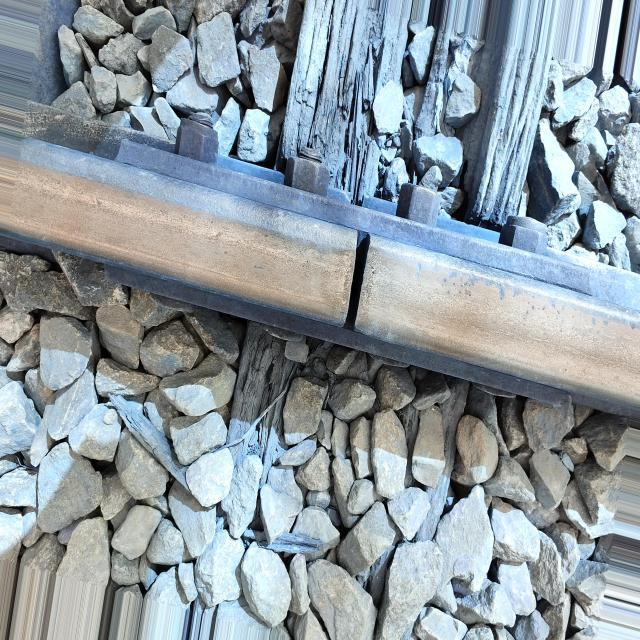Good Joint: (88, 115, 594, 411)
